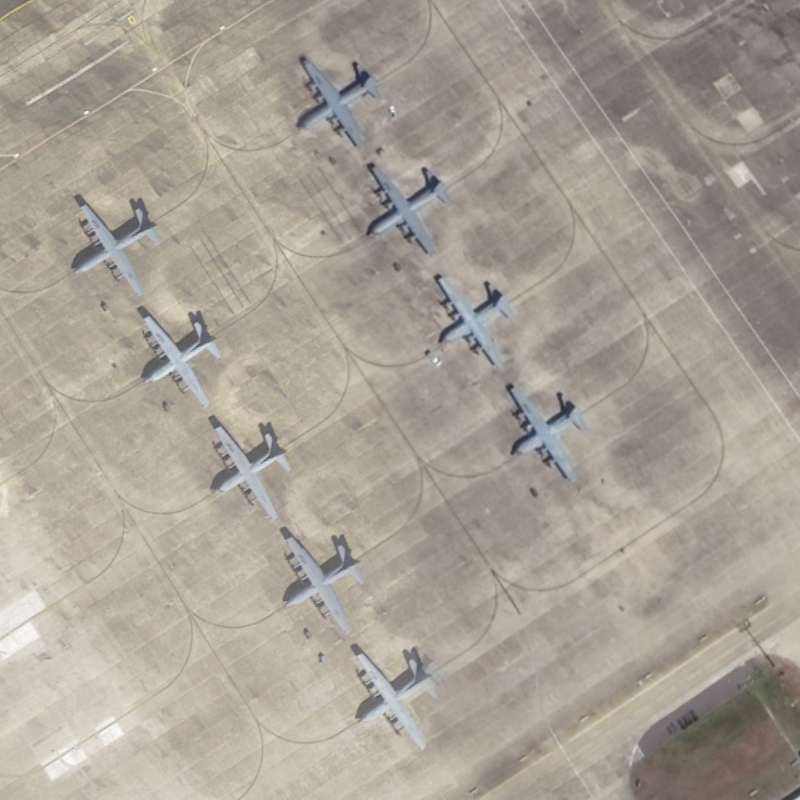A2: (67, 196, 167, 300), (280, 525, 366, 639), (361, 155, 456, 257), (352, 646, 441, 754), (208, 419, 297, 525), (139, 308, 228, 412), (290, 54, 387, 149), (504, 377, 588, 484), (430, 268, 517, 368)
